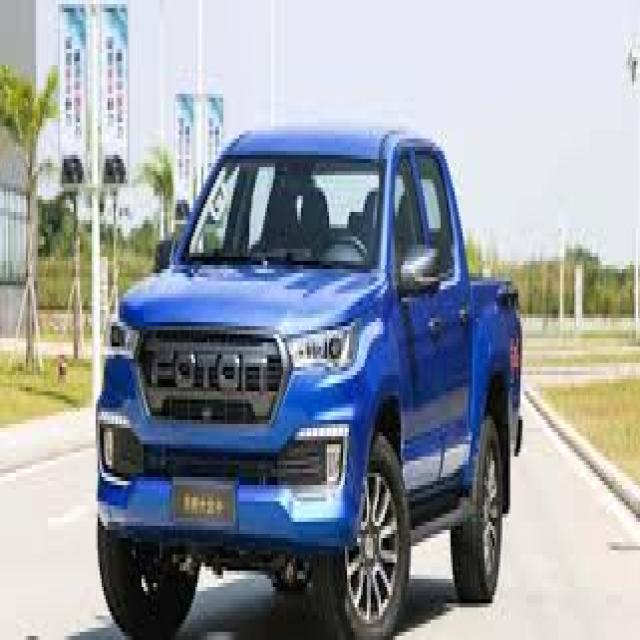CMT: (95, 134, 518, 640)
